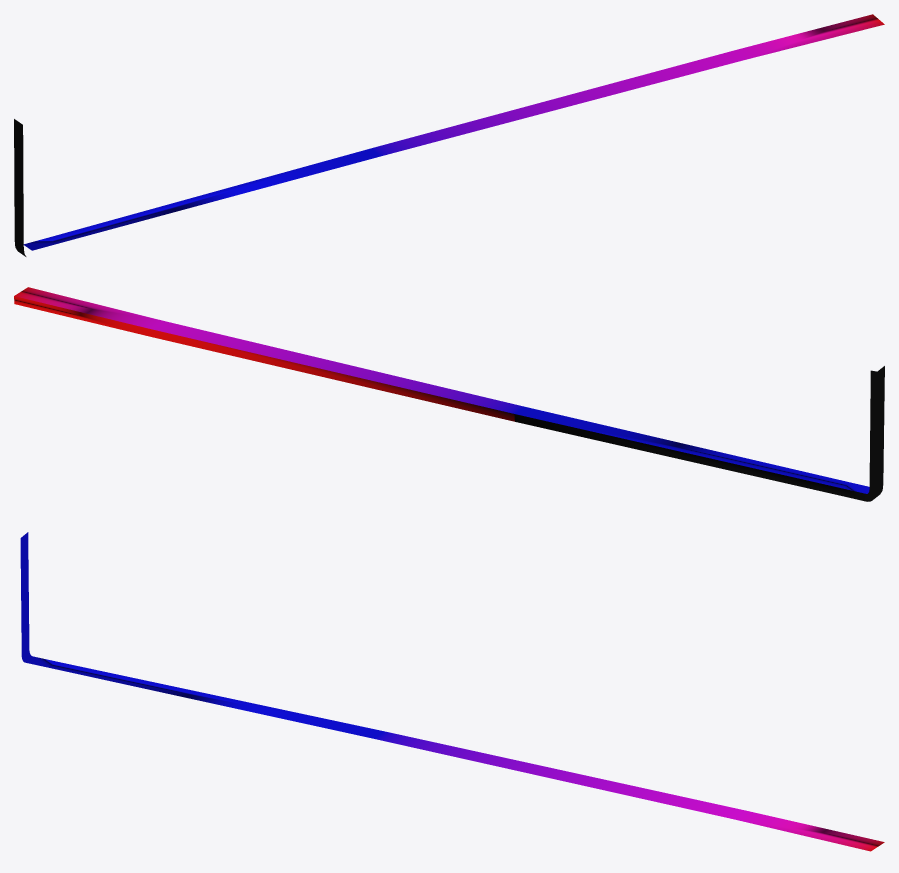
Rendered from GridLine.glb.
3 renders of one model, top to bottom at view 1: azimuth 30°, elevation 25°; view 2: azimuth 150°, elevation 25°; view 3: azimuth 330°, elevation 25°, orthographic. The views are drawn at different scales.
Visible parts, largest first — view 1: PowerflowGrid-2-B; view 2: PowerflowGrid-2-B; view 3: PowerflowGrid-2-B.
Part boxes in pixels (x1=…): PowerflowGrid-2-B: x1=14, y1=14, x2=884, y2=256; PowerflowGrid-2-B: x1=14, y1=287, x2=884, y2=501; PowerflowGrid-2-B: x1=20, y1=532, x2=884, y2=851.
Size of the model in its own units: 1.24 by 0.1844 by 0.0649.
